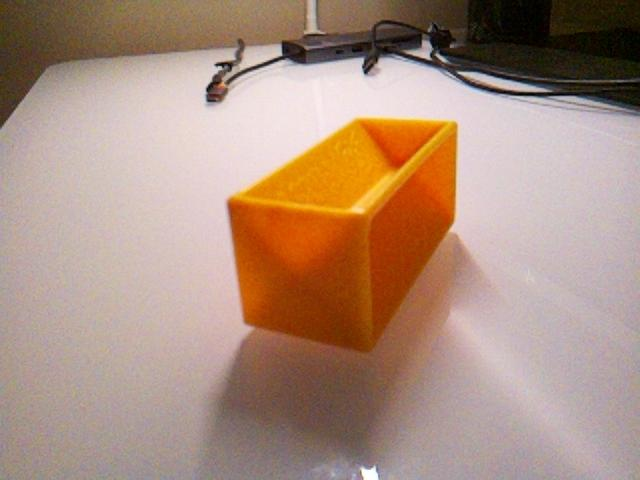yellow: (226, 115, 459, 353)
